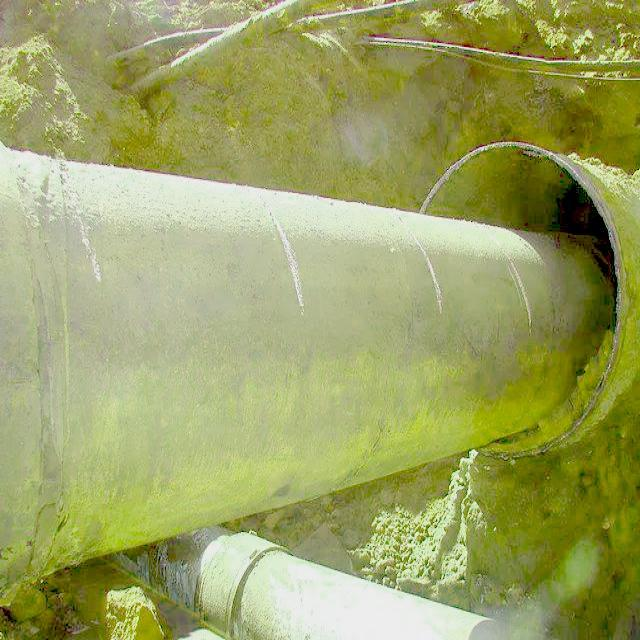Dry Waste: (42, 46, 632, 558)
